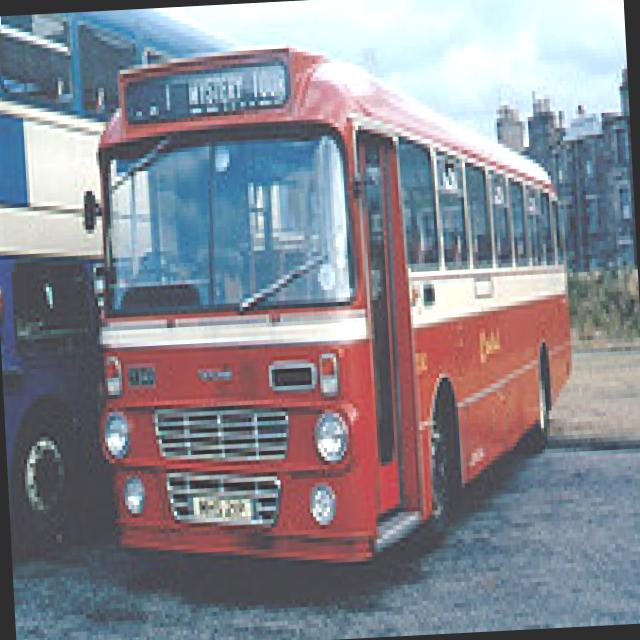Vehicle: (68, 41, 582, 592), (0, 3, 274, 549)
